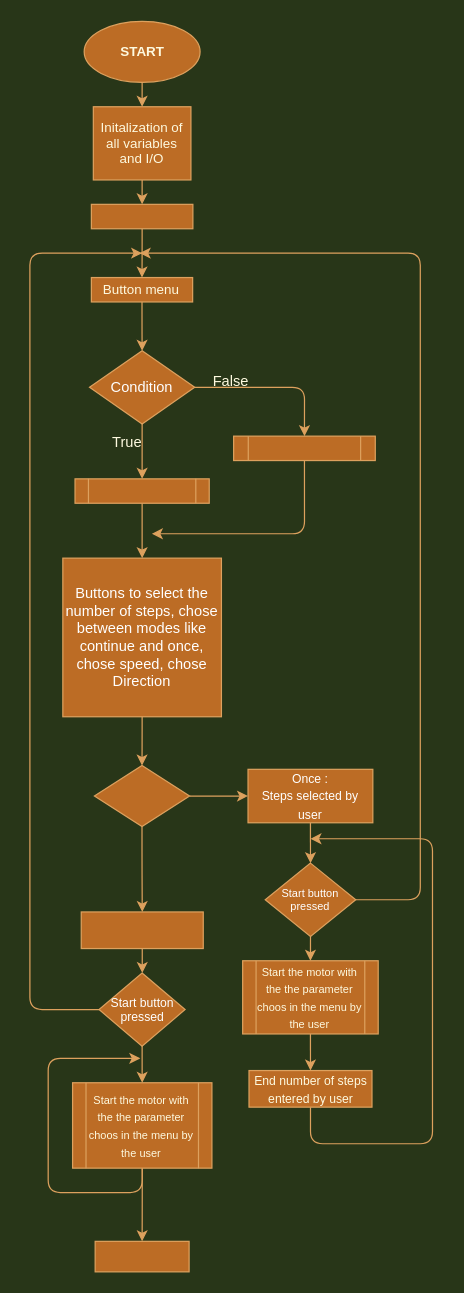
Image size: 464x1293. Some labels were removed from this diagram. Each missing label, with the centre of its shape:
"Continue" belongs at [141,930].
"Display logo" belongs at [141,216].
"END" belongs at [141,1256].
"Menu" belongs at [141,490].
"Mode" belongs at [141,795].
"Stand-by screen" belongs at [303,448].
